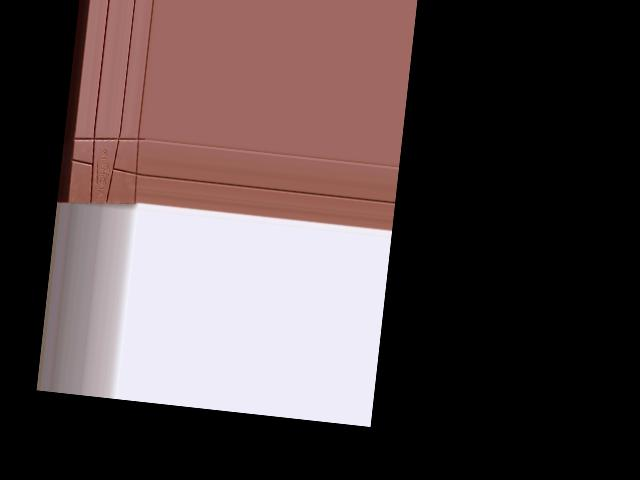chocolate: (63, 126, 145, 212)
